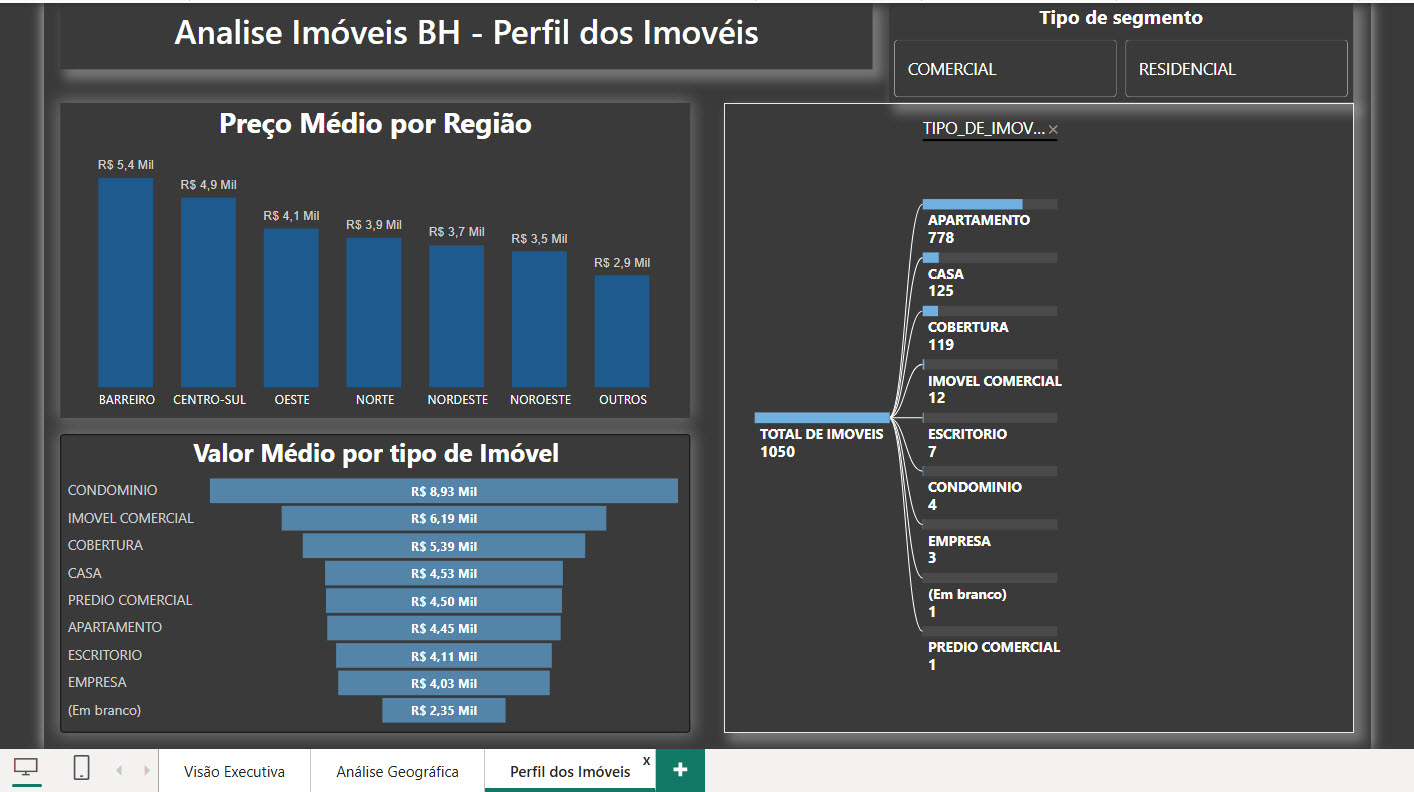

The page's visual inventory and layout, read from the dashboard file:
{"tool":"powerbi","page":{"name":"Perfil dos Imóveis ","canvas":[1280,720],"ordinal":2},"visuals":[{"type":"textbox","title":"Analise  - Imóveis BH - Visão Geral","box":[16,0,784,64],"z":0},{"type":"columnChart","title":"Preço Médio por Região","fields":{"Category":["zap_media_regiao.REGIÃO"],"Y":["Sum(zap_media_regiao.PRECO_MEDIO)"]},"box":[16,96,608,304],"z":1000},{"type":"decompositionTreeVisual","title":"Analise por Tipo e Quantidade ","fields":{"ExplainBy":["zap_gold.TIPO_DE_IMOVEL"],"Analyze":["bronze_imoveis_metricas.Qtd_Imoveis"]},"box":[656,96,608,608],"z":2000},{"type":"advancedSlicerVisual","title":"Tipo de segmento","fields":{"Values":["zap_gold.SEGMENTO"]},"box":[816,0,448,96],"z":3000},{"type":"funnel","title":"Valor Médio por tipo de Imóvel","fields":{"Category":["zap_media_tipo.TIPO_DE_IMOVEL"],"Y":["Avg(zap_media_tipo.PRECO_MEDIO)"]},"box":[16,416,608,288],"z":4000}]}

Visuals, with their boxes on the page's 1280x720 design canvas (x1, y1, x2, y2). These are canvas units, not pixel positions in the 1414x792 screenshot, which may show the page scaled, cropped or inside an application window:
"Analise  - Imóveis BH - Visão Geral" textbox: region(16, 0, 800, 64)
"Preço Médio por Região" columnChart: region(16, 96, 624, 400)
"Analise por Tipo e Quantidade " decompositionTreeVisual: region(656, 96, 1264, 704)
"Tipo de segmento" advancedSlicerVisual: region(816, 0, 1264, 96)
"Valor Médio por tipo de Imóvel" funnel: region(16, 416, 624, 704)
